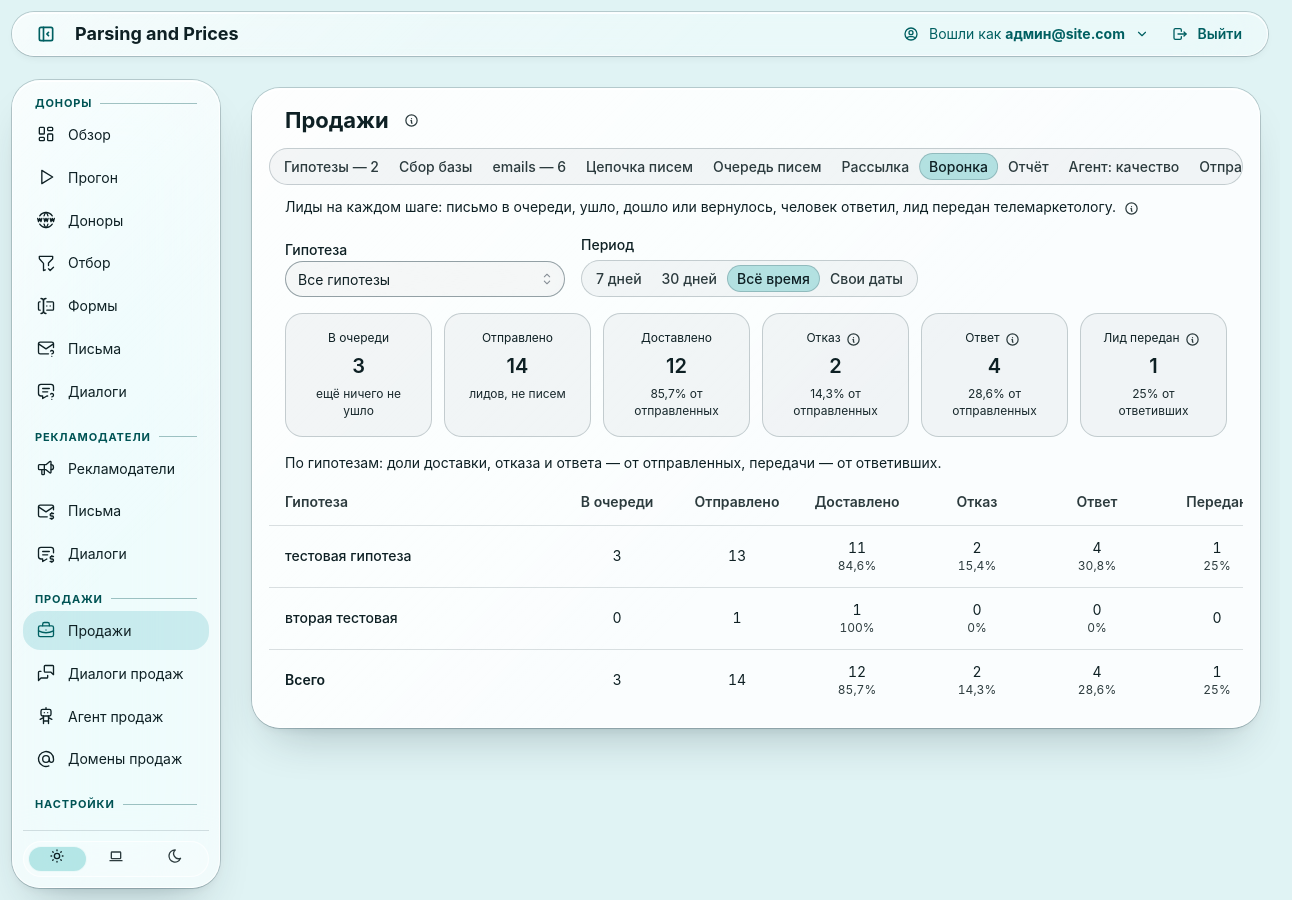
Test: воронка продаж › отказ на новом фильтре — словами над прежними числами, а не молча
This screenshot has width=1292, height=900.
Expected: the text "Отправлено" is shown, [482,330,553,347]
Click the field labelled "Гипотеза": click(425, 280) [285,262,565,298]
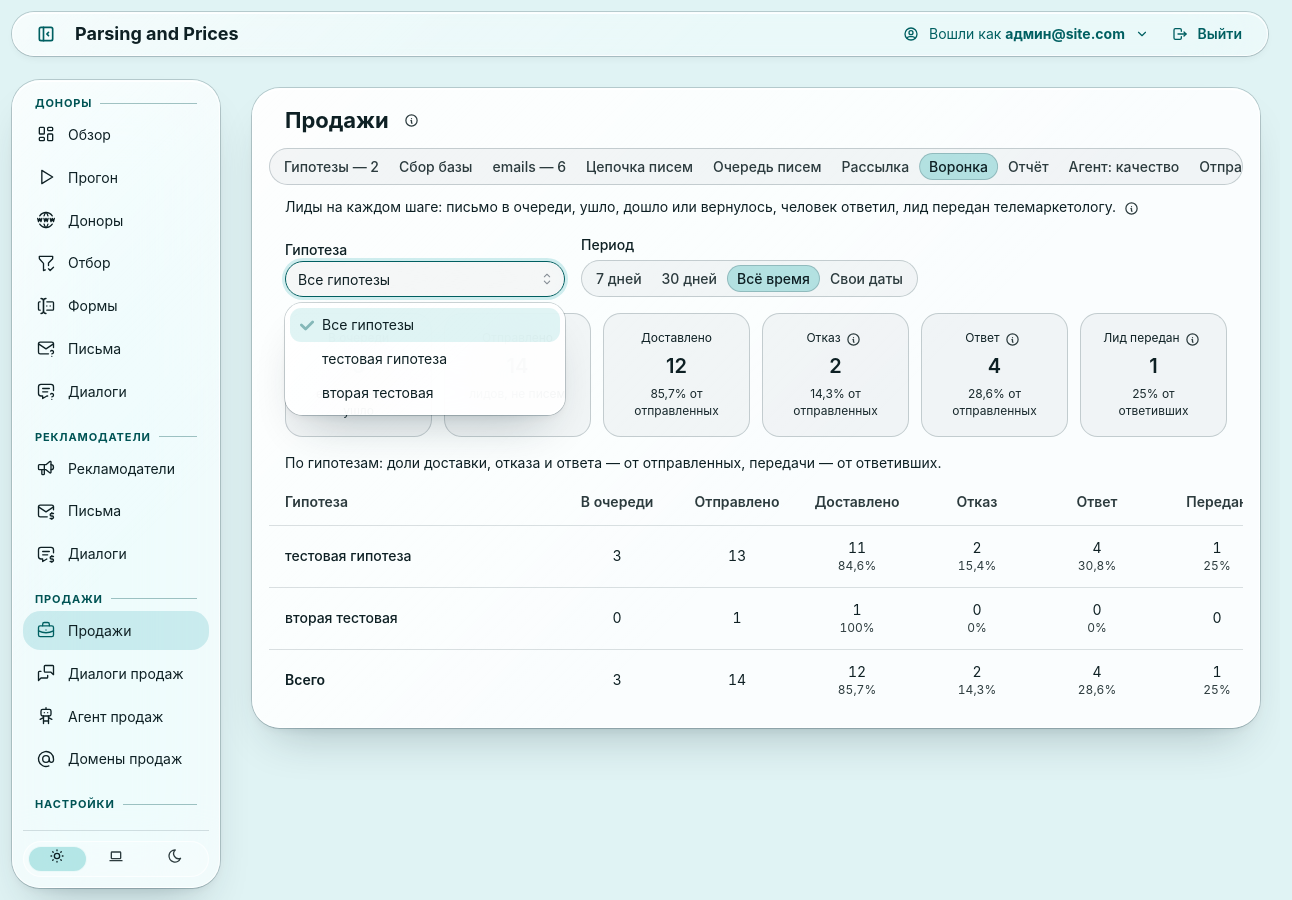
Click the option "вторая тестовая": click(378, 392) [322,384,434,401]
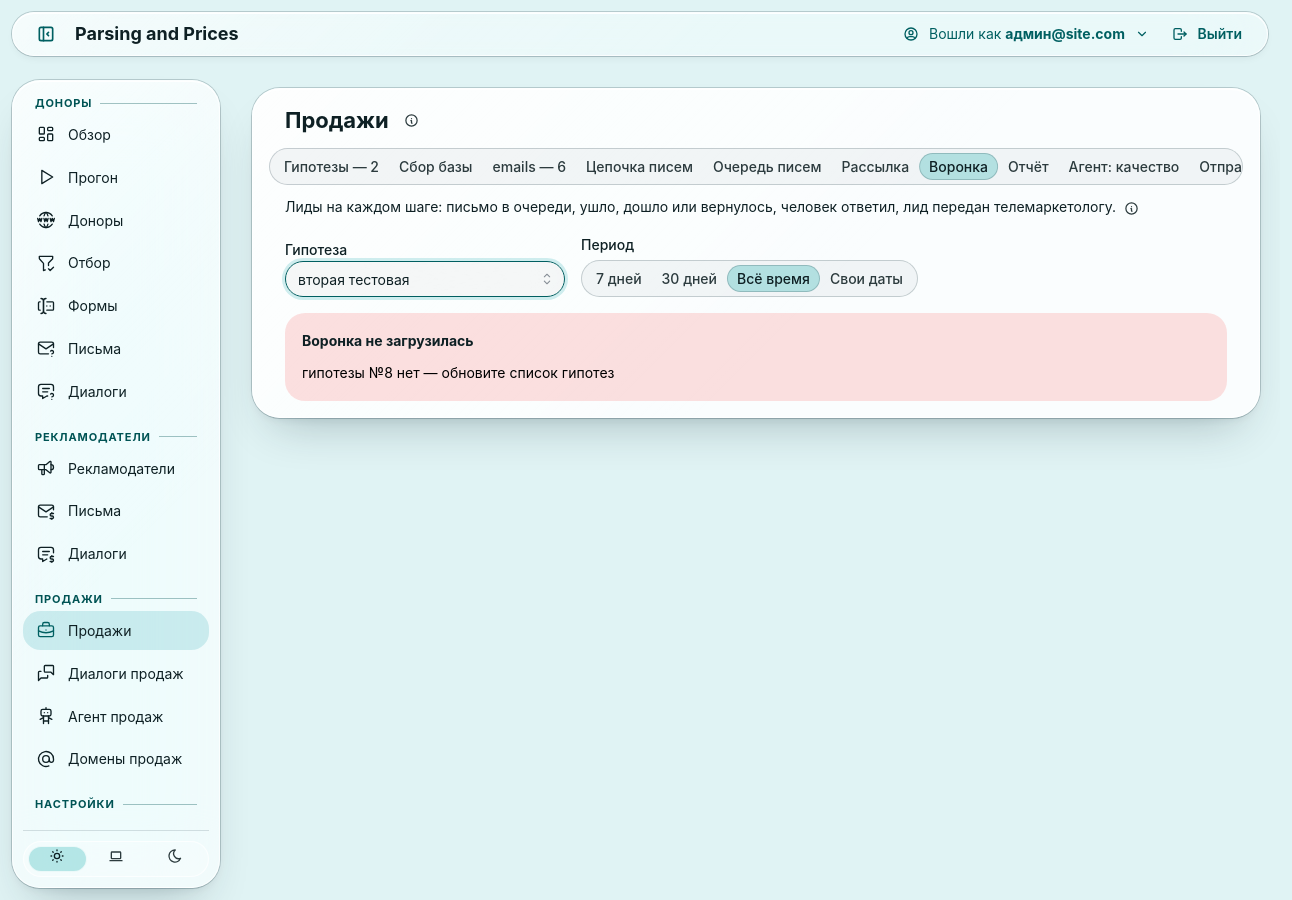
Expected: the text "Воронка не загрузилась" shows "гипотезы №8 нет — обновите список гипотез", [302,364,614,381]
